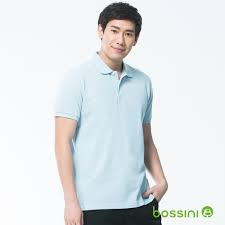S_polo shirt: (50, 52, 160, 203)
